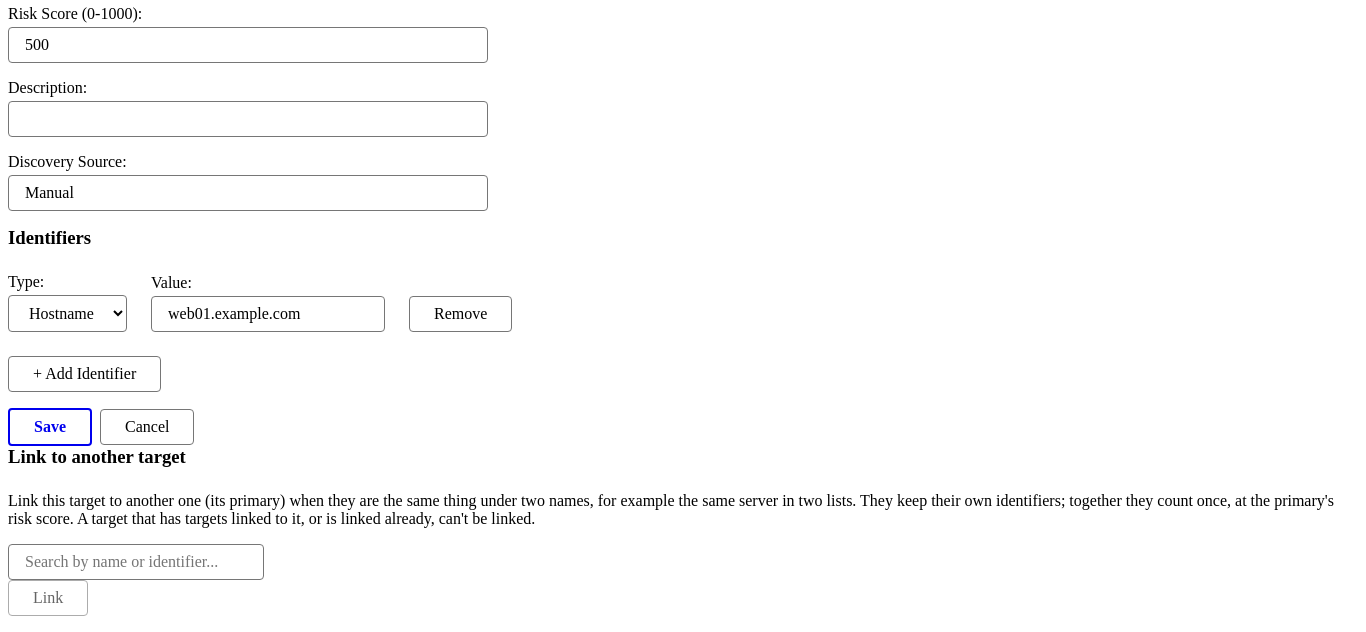
Scenario: TargetEdit.vue › offers Link to another target, leaves this target out of the choices, and links to the chosen one after asking
(page scrolled)
Expected: the button "Link" is disabled, [8,580,88,616]
Type "pri" into the dropdown with placeholder "Search by name or identifier..." at (136, 562), box [8,544,264,580]
Wait 250 ms
(page scrolled)
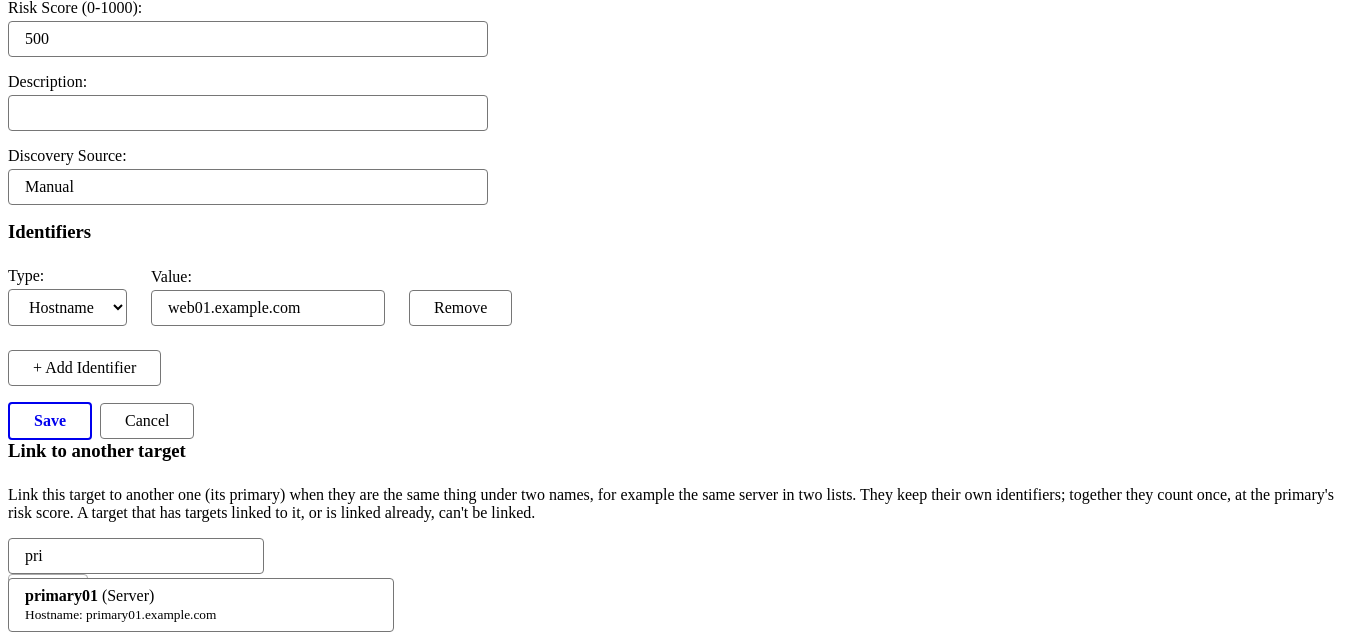
Click the option "primary01 (Server)Hostname: primary01.example.com" at (121, 604), box [25,587,216,622]
(page scrolled)
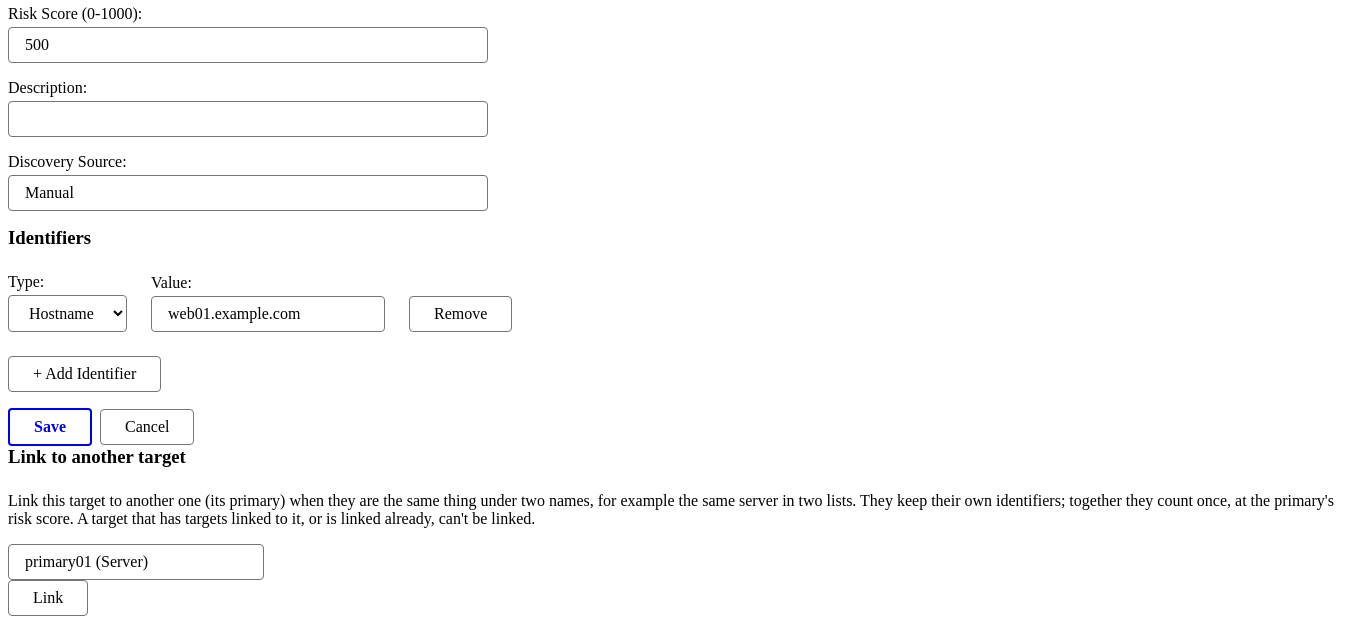
Click the button "Link" at (48, 598), box [8,580,88,616]
(page scrolled)
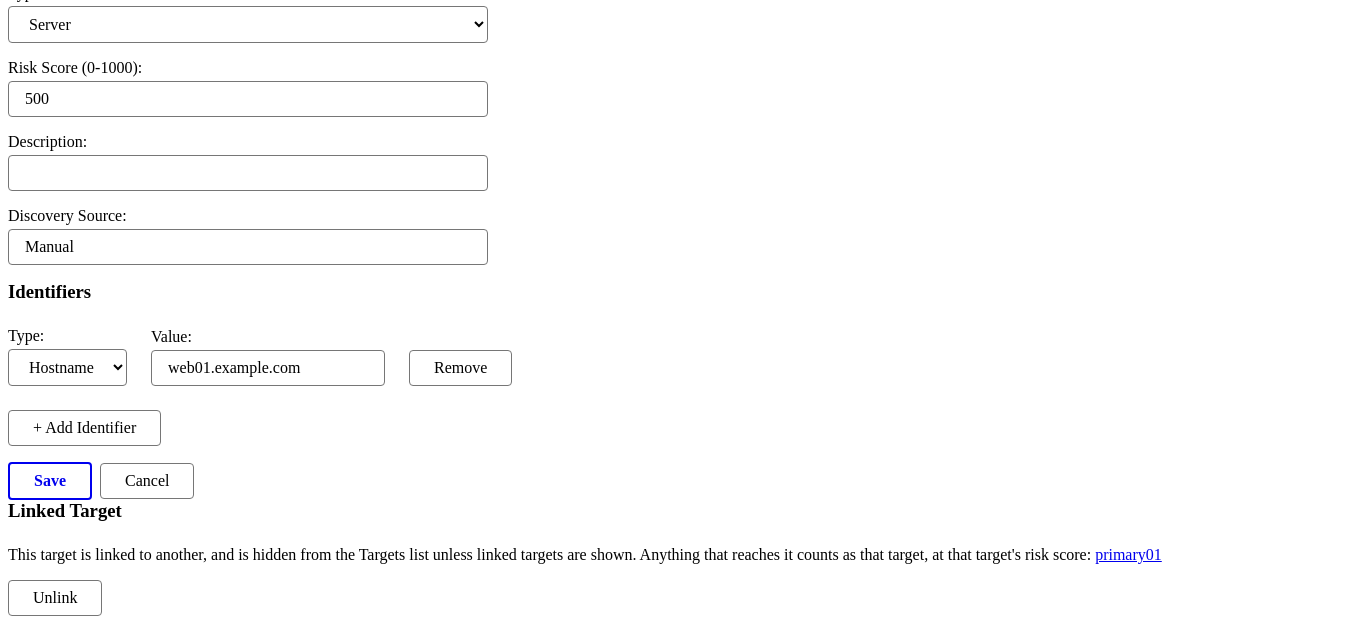
Result: the text "Linked Target" is shown at [8,500,122,521]
Result: the link to "/targets/3" reads "primary01" at [1095,546,1162,563]
Result: the text "Link to another target" is gone
